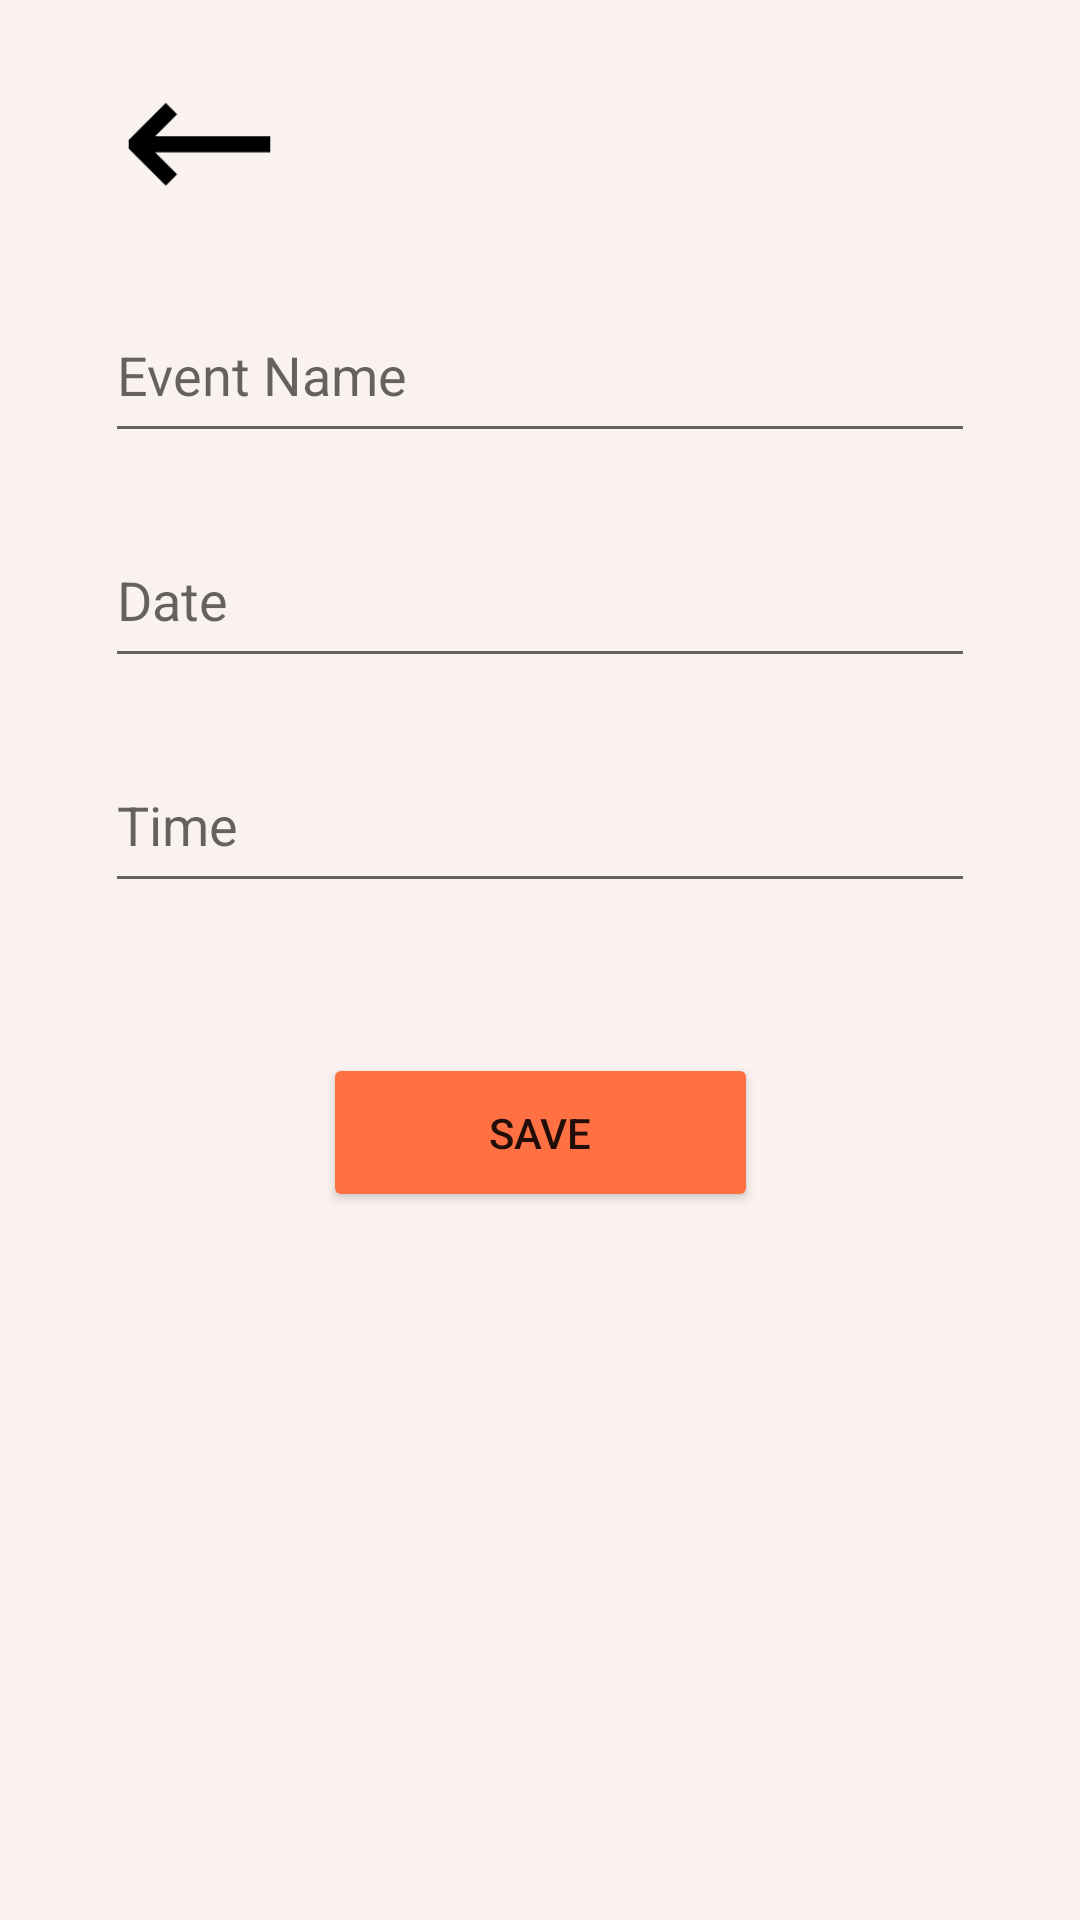

Locate icon controls on the screen. Image size 1080w x 1920h, boxes as (x1, y1, x2, y2).
back: (128, 103, 271, 186)
